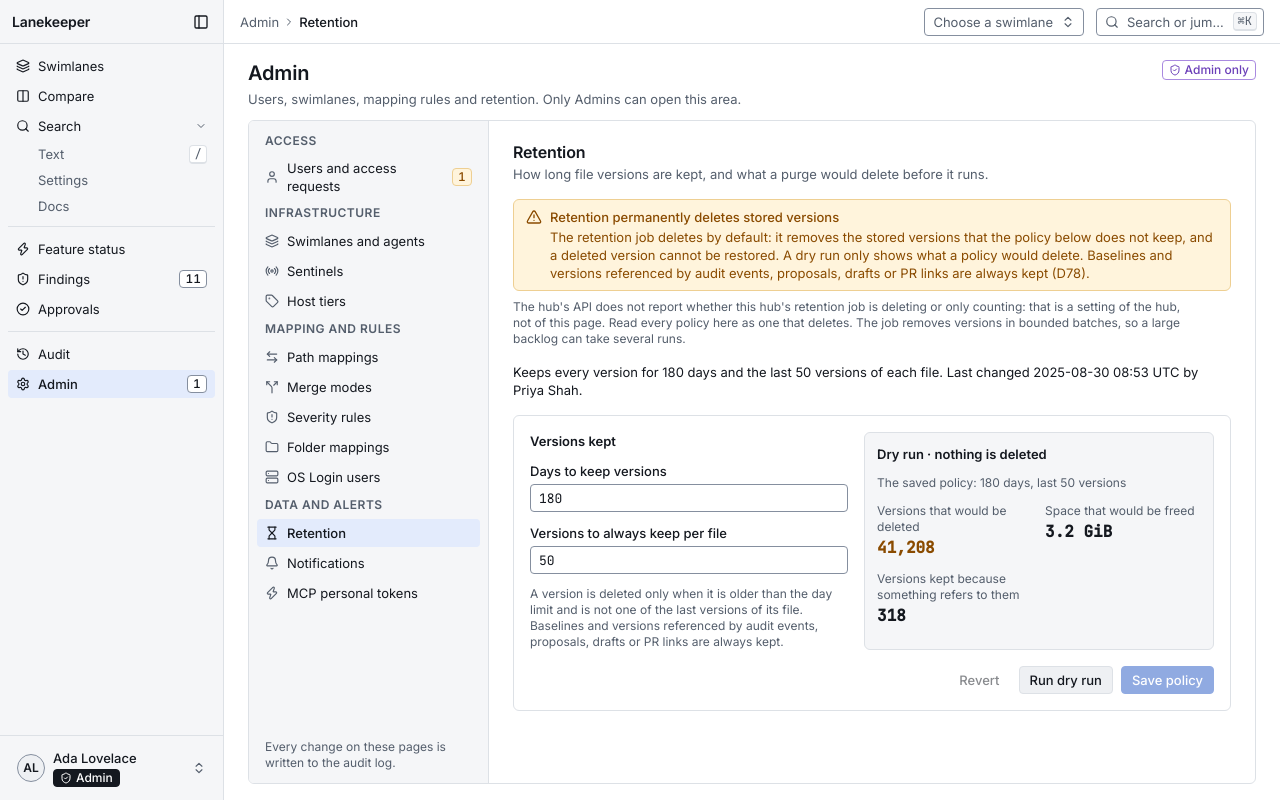
Test: saving › asks for nothing to be typed when the dry run found nothing to delete
The image size is (1280, 800).
Expected: the heading "Admin" is shown, [248,61,309,85]
Replace the text in the field labelled "Days to keep versions" with "365". click: (689, 498)
box: [530,484,848,512]
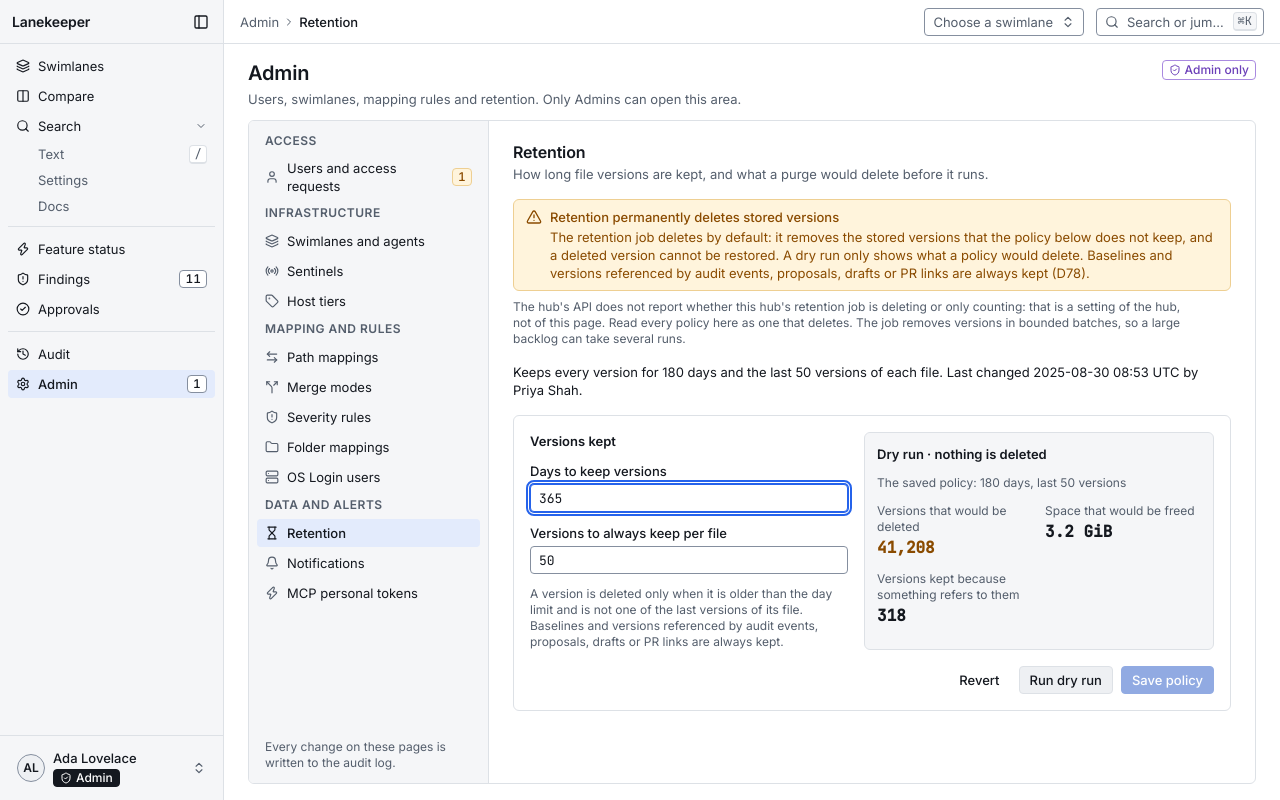
Replace the text in the field labelled "Versions to always keep per file" with "100". click: (689, 560)
box: [530,546,848,574]
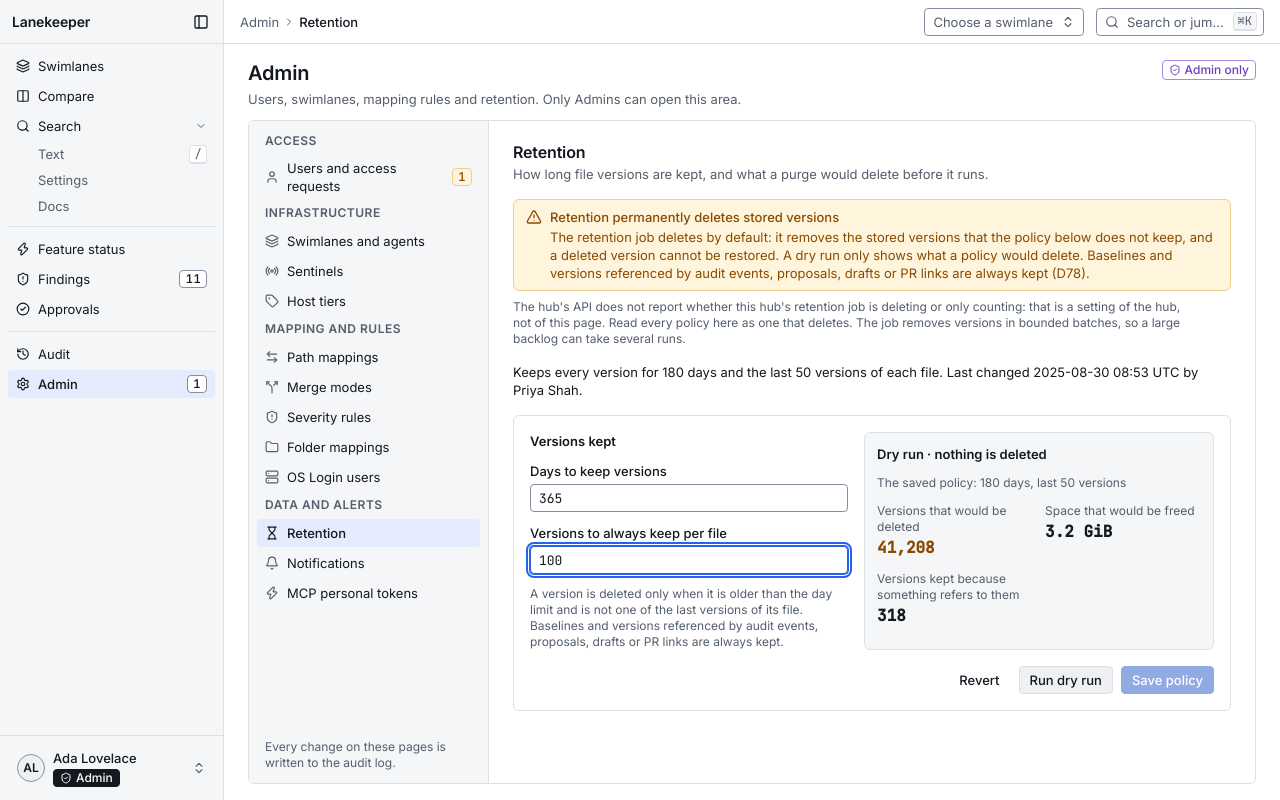
Click the button "Run dry run". click: (1066, 680)
box: [1018,666,1113,694]
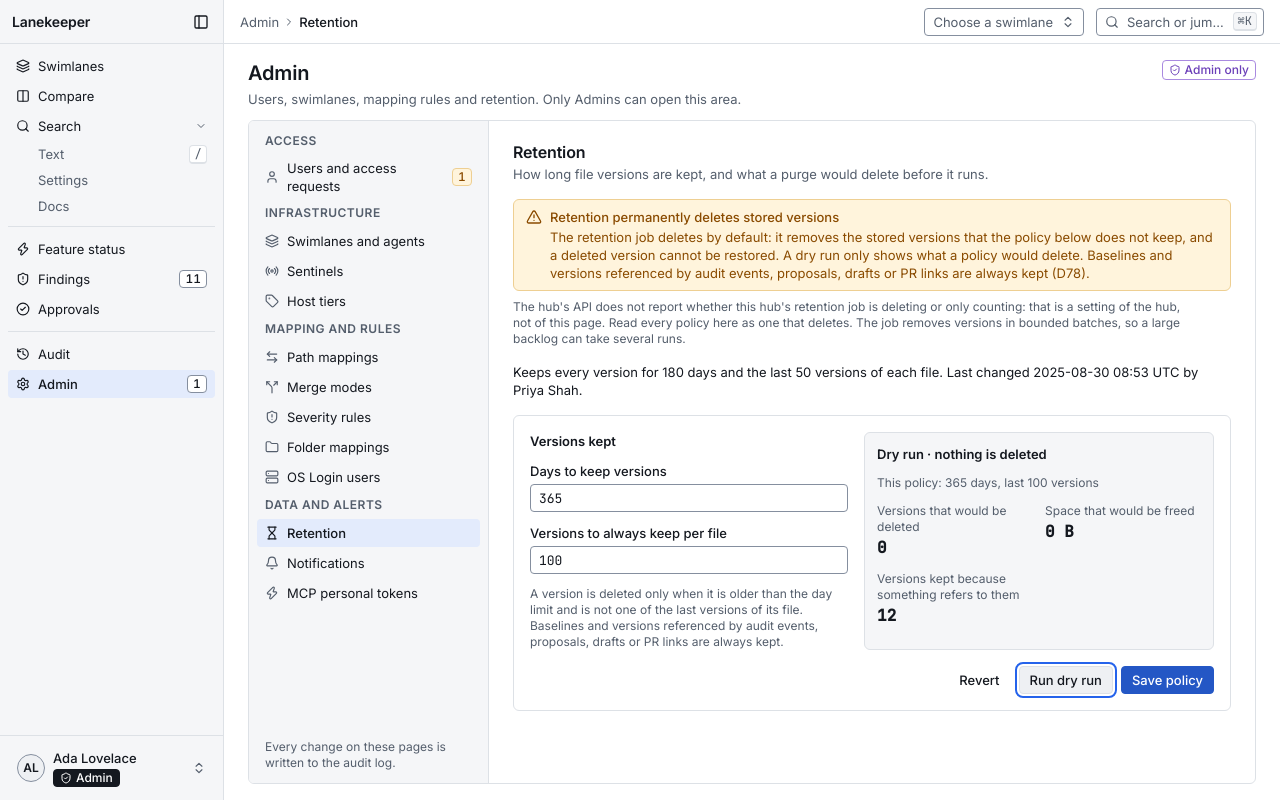
Result: the text "This policy: 365 days, last 100 versions" is shown at [877,475,1099,490]
Click the button "Save policy". click: (1167, 680)
box: [1121,666,1214,694]
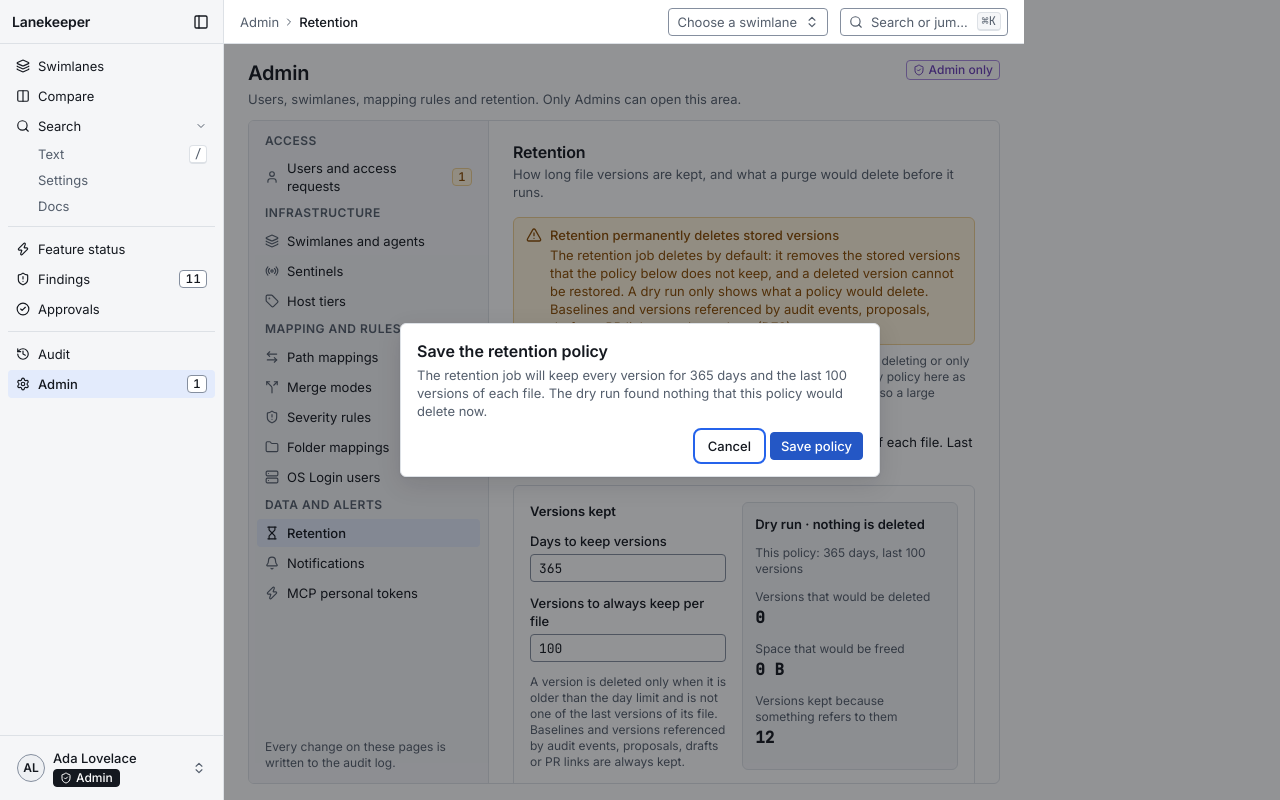
Result: the dialog "Save the retention policy" shows "The dry run found nothing that this policy would delete now" at [417,367,847,419]
Click the button "Save policy". click: (816, 446)
box: [770,432,863,460]
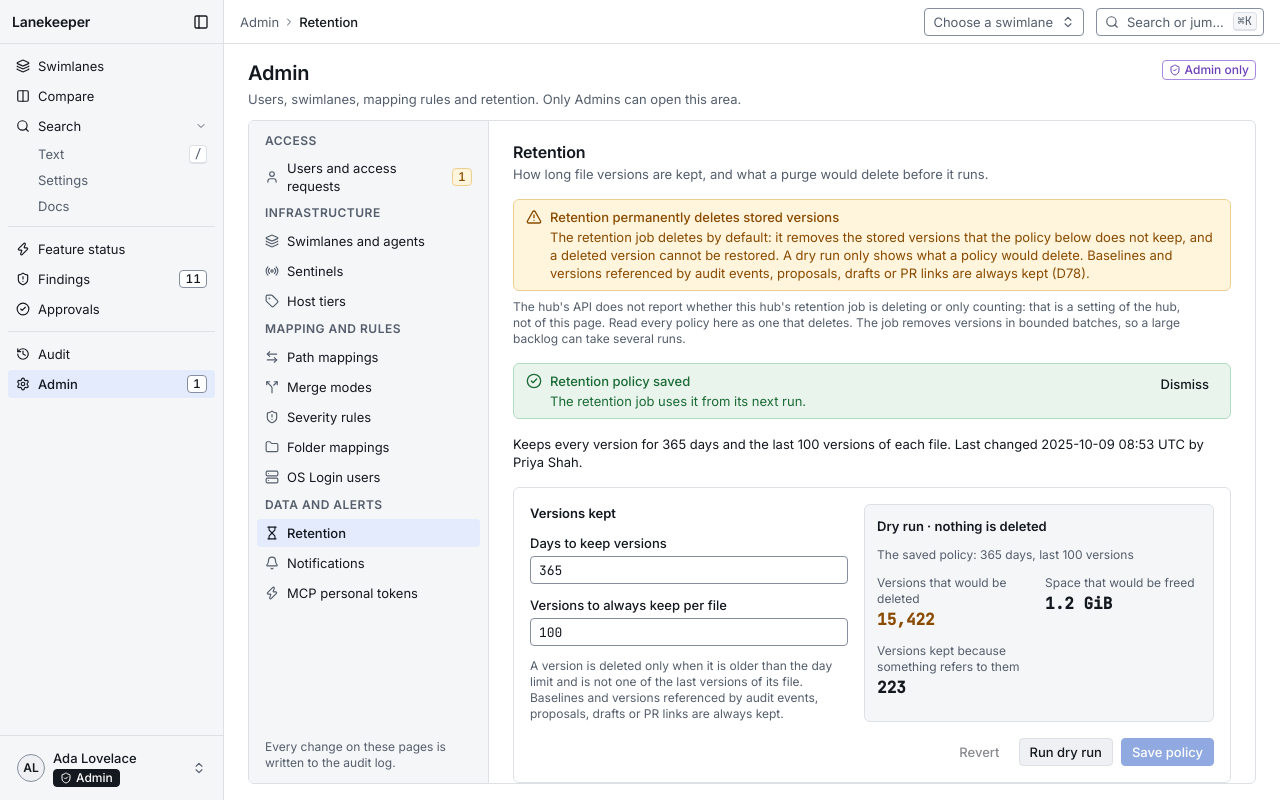
Result: the dialog is gone
